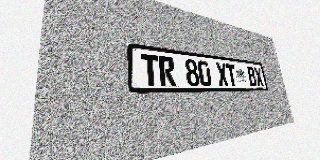0: (197, 60, 212, 86)
8: (184, 59, 200, 86)
B: (246, 66, 258, 86)
R: (158, 56, 176, 86)
T: (141, 53, 160, 86), (225, 63, 238, 86)
X: (216, 62, 229, 86), (253, 67, 264, 86)
